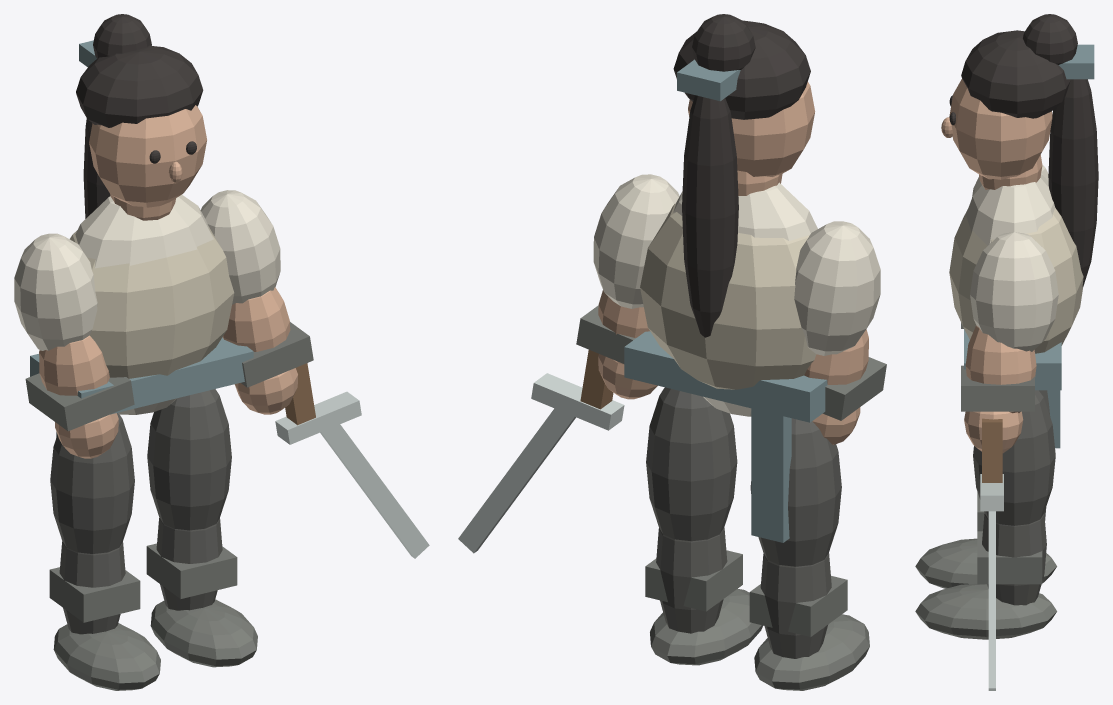
The model's file is li_xiaoyao_blockout.glb.
3 renders of one model, left to right at view 1: azimuth 30°, elevation 25°; view 2: azimuth 150°, elevation 25°; view 3: azimuth 270°, elevation 25°, orthographic. The views are drawn at different scales.
Visible parts, largest first — view 1: short_tunic, RightThigh, young_adult_face, LeftThigh, hair_cap, LeftSleeve, torso_inner, RightSleeve, LeftShoe, RightShoe, waist_sash, SwordBlade (+15 smaller); view 2: short_tunic, RightThigh, long_tied_hair, LeftSleeve, LeftThigh, RightSleeve, waist_sash, hair_cap, sash_tail, LeftShoe, young_adult_face, RightShin (+17 smaller); view 3: RightSleeve, long_tied_hair, hair_cap, young_adult_face, short_tunic, RightThigh, RightShoe, torso_inner, RightForearm, RightShin, LeftShoe, RightWristWrap (+10 smaller).
Part boxes in pixels (x1,y1,x2,y2): short_tunic: (70, 226, 234, 378); RightThigh: (147, 389, 231, 530); young_adult_face: (89, 105, 206, 207); LeftThigh: (50, 413, 134, 553); hair_cap: (76, 45, 203, 127); LeftSleeve: (14, 233, 97, 350); torso_inner: (75, 194, 213, 414); RightSleeve: (200, 190, 280, 304); LeftShoe: (53, 623, 160, 690); RightShoe: (150, 599, 257, 667); waist_sash: (30, 337, 253, 414); SwordBlade: (320, 424, 429, 558); short_tunic: (640, 203, 816, 389); RightThigh: (646, 387, 737, 541); long_tied_hair: (682, 95, 738, 337); LeftSleeve: (794, 221, 880, 355); LeftThigh: (750, 418, 841, 566); RightSleeve: (593, 174, 679, 308); waist_sash: (624, 331, 827, 422); hair_cap: (673, 20, 810, 119); sash_tail: (751, 408, 791, 542); LeftShoe: (754, 614, 869, 690); young_adult_face: (688, 81, 815, 176); RightShin: (656, 527, 727, 633); RightSleeve: (970, 232, 1058, 351); long_tied_hair: (1048, 79, 1098, 286); hair_cap: (961, 30, 1070, 118); young_adult_face: (949, 79, 1052, 179); short_tunic: (949, 208, 1083, 353); RightThigh: (973, 390, 1055, 525); RightShoe: (915, 583, 1056, 639); torso_inner: (966, 174, 1055, 245); RightForearm: (965, 325, 1036, 413); RightShin: (982, 514, 1046, 605); LeftShoe: (915, 538, 1056, 588); RightWristWrap: (961, 365, 1034, 411).
Size of the model in its own units: 1.47 by 2.22 by 0.62.
